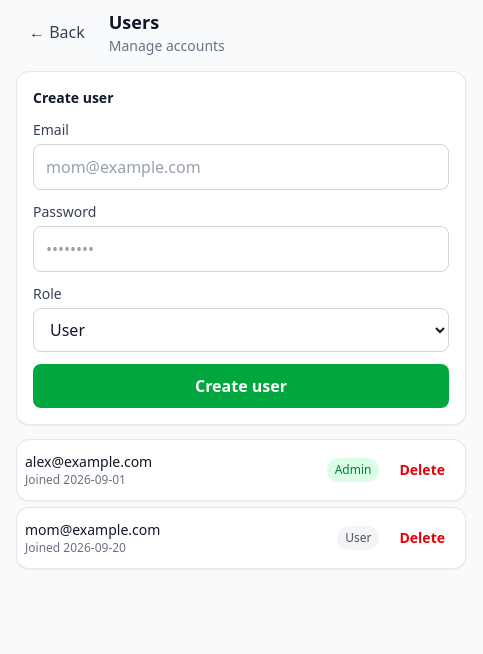
Test case: UsersPage (docs/TASKS.md → T32) › creates a user (DoD): normalized POST body, payload refetch, row appears, form resets
The width and height of the screenshot is (483, 654).
Expected: the list item with test id "user-row-u2" is shown, [17, 508, 465, 568]
In the field labelled "Email": (241, 167) [33, 144, 449, 190], type "Mom2@Example.com"
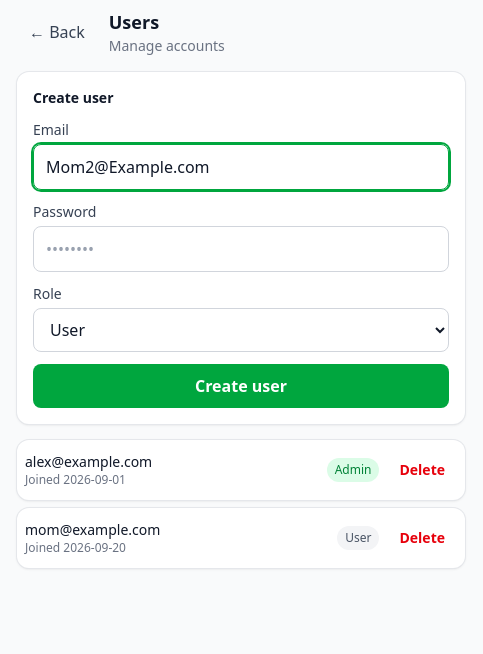
In the password field labelled "Password": (241, 249) [33, 226, 449, 272], type "secret"
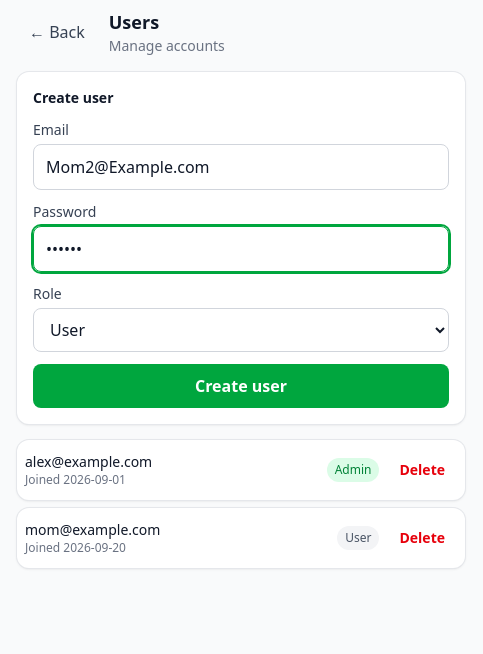
Select "Admin" in the dropdown labelled "Role": (241, 330) [33, 308, 449, 352]
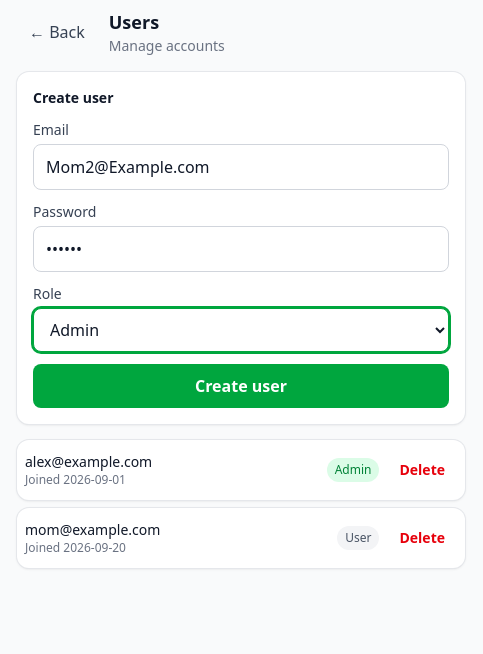
Click the button "Create user": (241, 386) [33, 364, 449, 408]
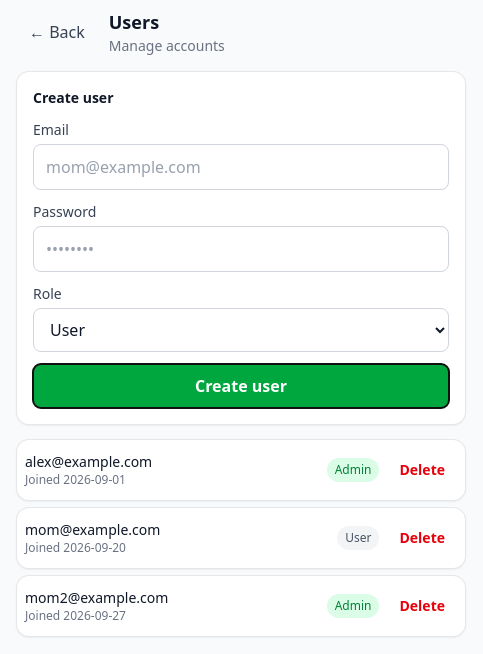
Expected: the list item with test id "user-row-u3" is shown, [17, 576, 465, 636]
Expected: the text "mom2@example.com" is shown, [25, 588, 168, 607]
Expected: the field labelled "Email" is empty, [33, 144, 449, 190]
